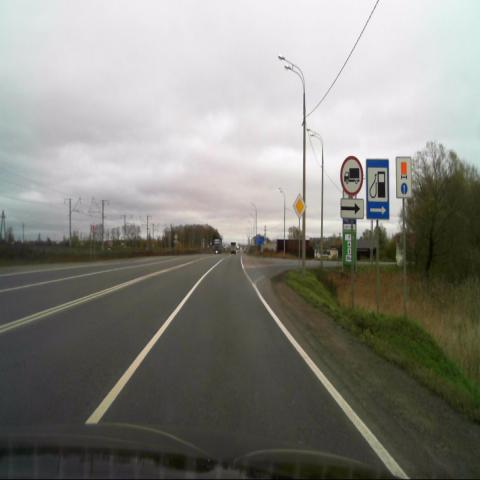8_3_1: (341, 199, 364, 217)
